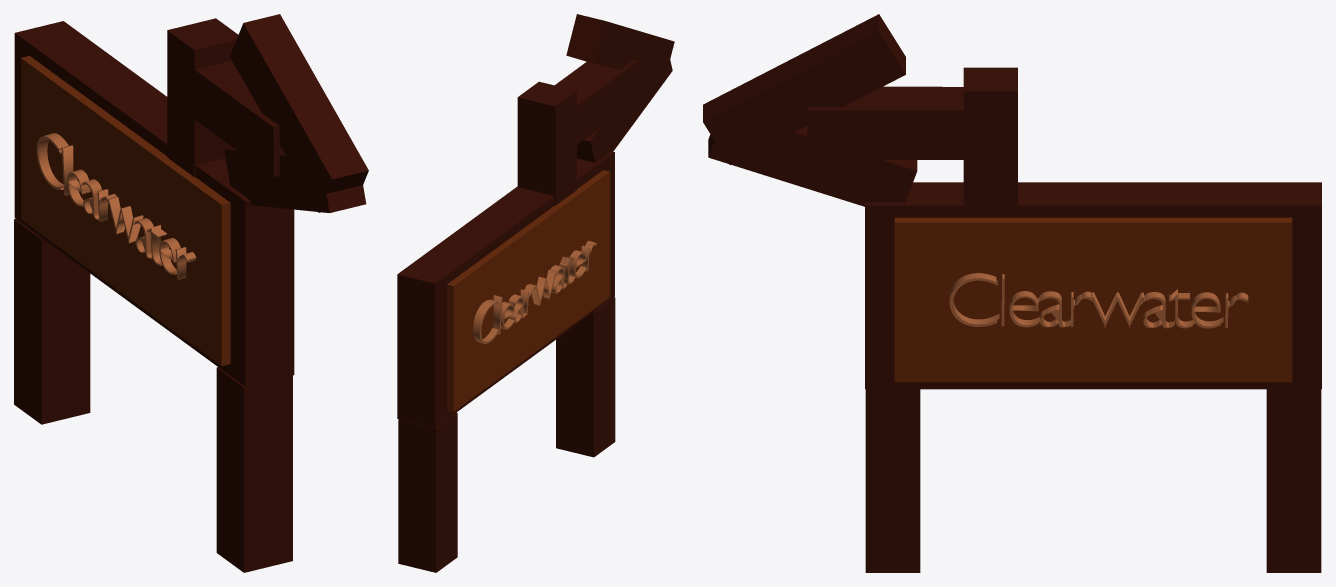
The model's file is Clearwater Sign.fbx.
The picture shows the model from 3 angles, left to right: view 1: azimuth 30°, elevation 25°; view 2: azimuth 150°, elevation 25°; view 3: azimuth 270°, elevation 25°; orthographic projection. The views are drawn at different scales.
Visible parts, largest first — view 1: Cube.005, Text; view 2: Cube.005, Text; view 3: Cube.005, Text.001.
Part boxes in pixels (box(x1,y1,x2,y2)): Cube.005: box(14, 14, 368, 572); Text: box(36, 133, 196, 279); Cube.005: box(397, 14, 674, 572); Text: box(473, 241, 597, 343); Cube.005: box(703, 14, 1321, 572); Text.001: box(949, 273, 1248, 328).
Bounding box in the file's own units: 100 × 587 × 611.
